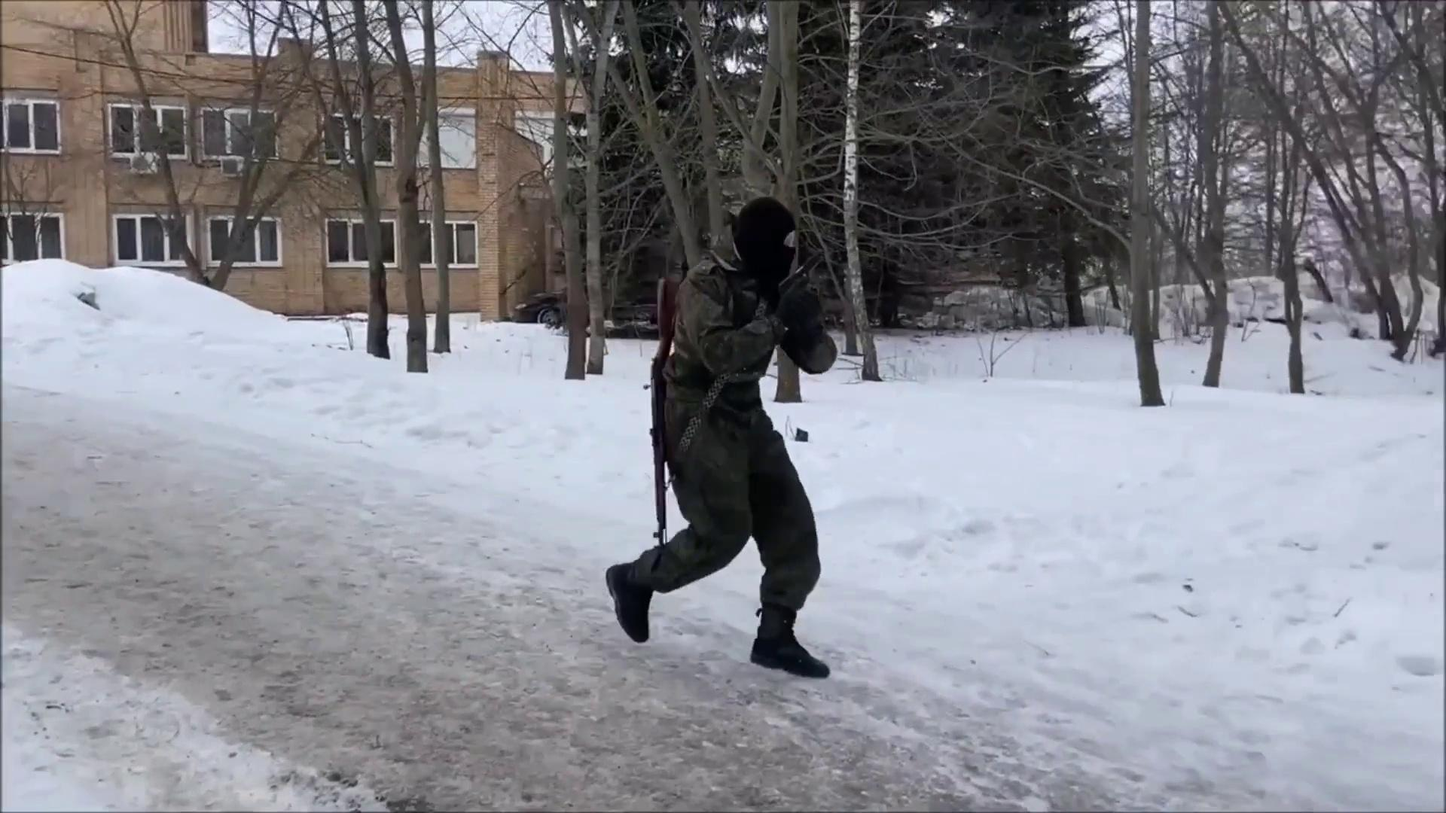person: (603, 195, 838, 681)
pistol: (776, 247, 827, 297)
rifle: (643, 276, 681, 552)
